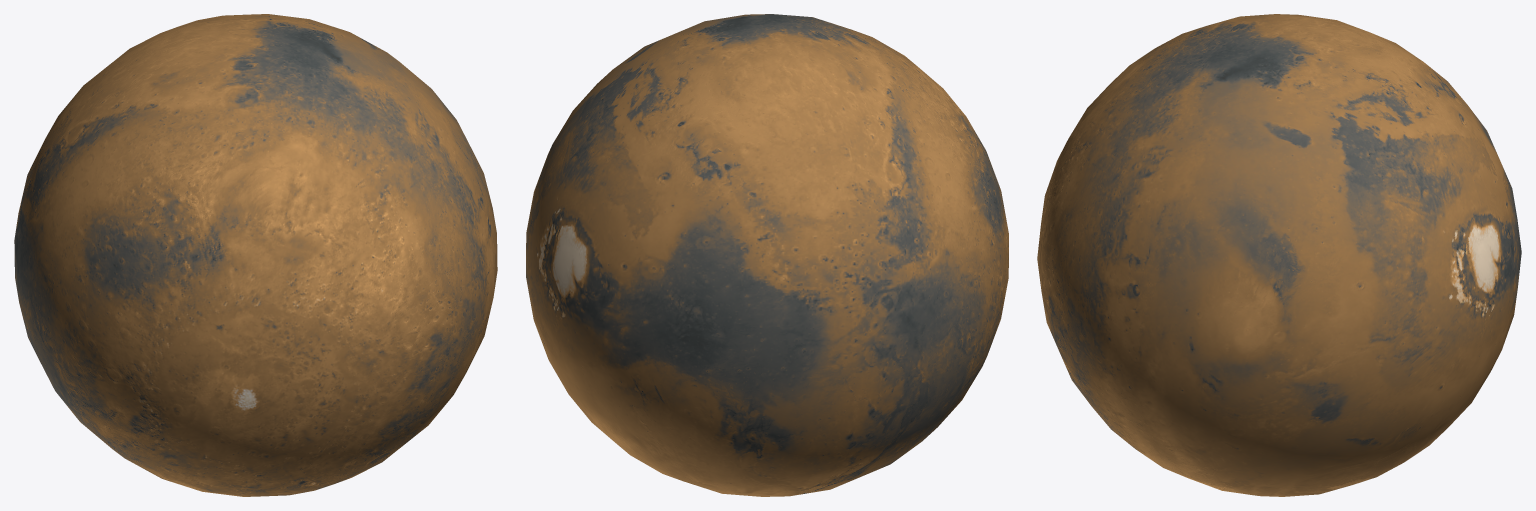
The model's file is Mars_2K.obj.
The picture shows the model from 3 angles, left to right: view 1: azimuth 30°, elevation 25°; view 2: azimuth 150°, elevation 25°; view 3: azimuth 270°, elevation 25°; orthographic projection.
Parts seen in each view (by area): view 1: Atmosphere_Cube.010; view 2: Atmosphere_Cube.010; view 3: Atmosphere_Cube.010.
Boxes of the visible parts, <box> form: Atmosphere_Cube.010: <box>14,14,497,496</box>; Atmosphere_Cube.010: <box>526,14,1008,496</box>; Atmosphere_Cube.010: <box>1037,14,1521,496</box>.
Bounding box in the file's own units: 6.85 × 6.84 × 6.86.
Materials: 4 (4 with a texture image).
